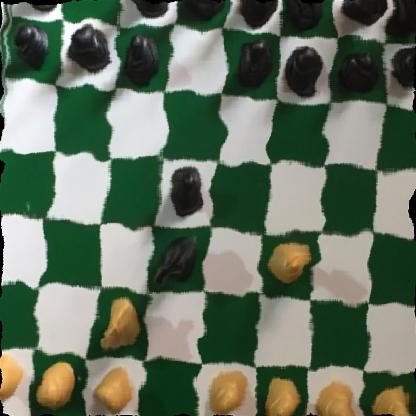black-bishop: (281, 0, 331, 30), (123, 0, 177, 23)
black-king: (229, 0, 281, 29)
black-knight: (149, 228, 202, 291), (343, 0, 390, 35)
black-pawn: (2, 20, 54, 77), (160, 160, 209, 219), (113, 31, 161, 84), (229, 39, 274, 93), (66, 23, 113, 74), (280, 45, 324, 98), (340, 46, 379, 98), (390, 36, 416, 87)
black-queen: (177, 0, 229, 19)
black-rook: (387, 0, 416, 40), (13, 0, 72, 11)
white-bishop: (263, 225, 322, 296)
white-knight: (97, 294, 148, 355)
white-pawn: (32, 357, 82, 416), (89, 365, 137, 414), (202, 368, 249, 416), (259, 375, 304, 416), (0, 346, 27, 409), (312, 380, 358, 416), (369, 382, 416, 416)
